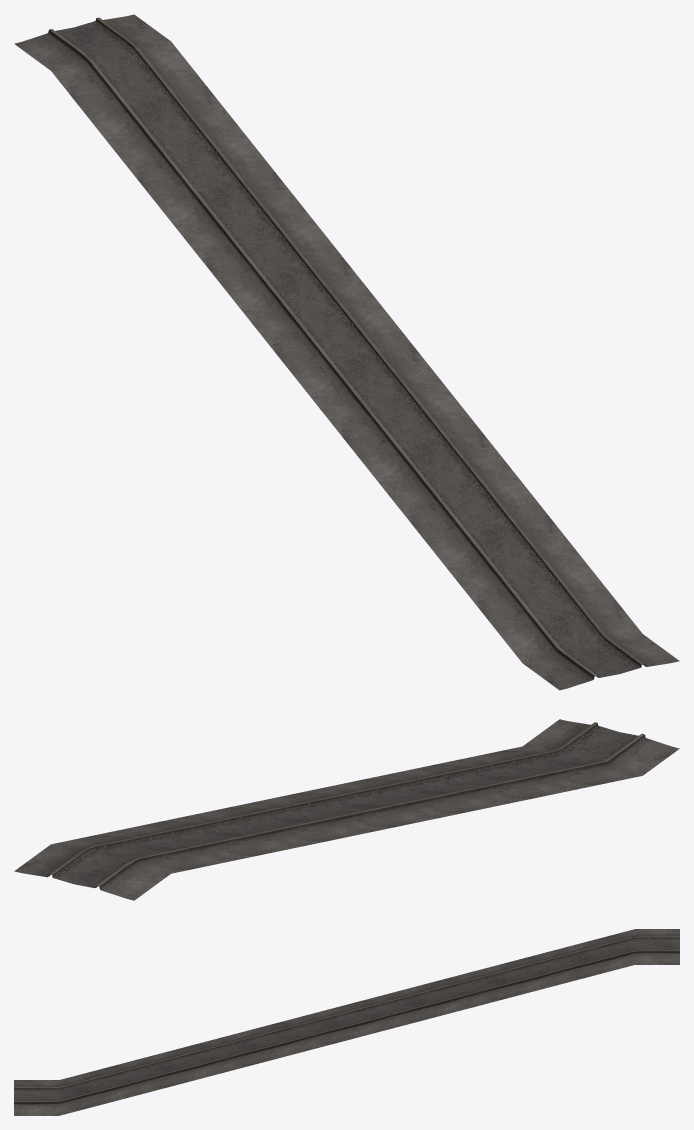
The model's file is Rail Tunnel Elevation.dae.
3 renders of one model, top to bottom at view 1: azimuth 30°, elevation 25°; view 2: azimuth 150°, elevation 25°; view 3: azimuth 270°, elevation 25°, orthographic. The views are drawn at different scales.
Visible parts, largest first — view 1: Rail_ElevationChange; view 2: Rail_ElevationChange; view 3: Rail_ElevationChange.
Part boxes in pixels (x1,y1,x2,y2): Rail_ElevationChange: (14,14,679,690); Rail_ElevationChange: (14,719,679,900); Rail_ElevationChange: (14,929,679,1115).
Size of the model in its own units: 255 by 2000 by 512.
